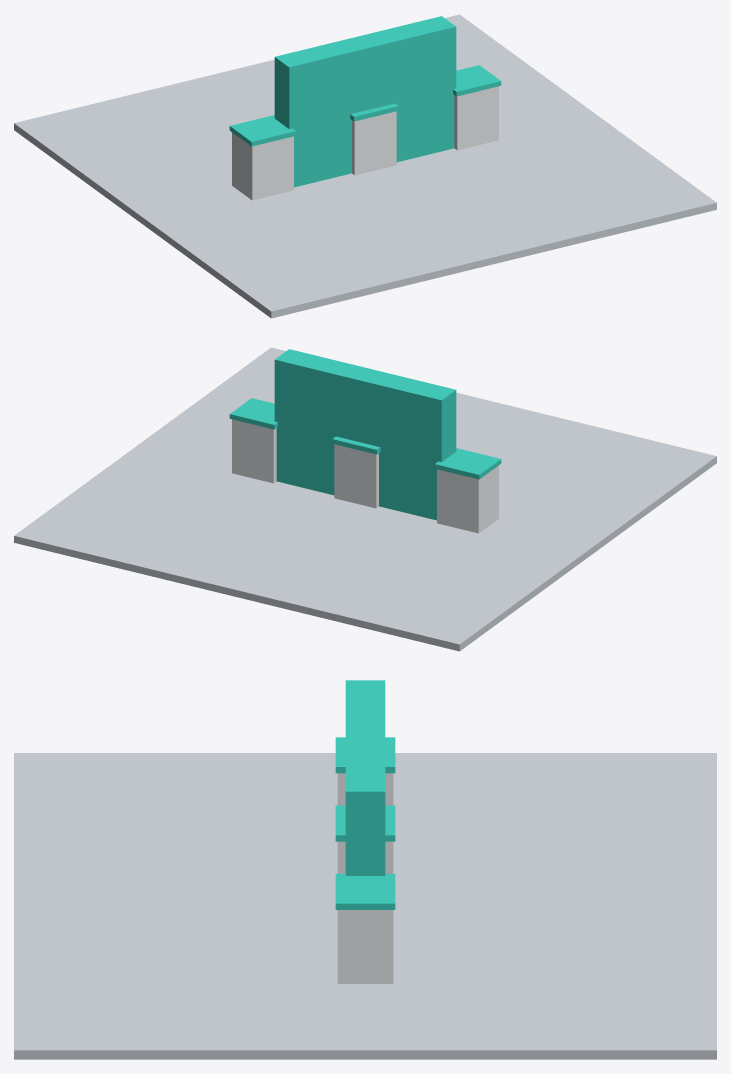
The picture shows the model from 3 angles, top to bottom: view 1: azimuth 30°, elevation 25°; view 2: azimuth 150°, elevation 25°; view 3: azimuth 270°, elevation 25°; orthographic projection. The views are drawn at different scales.
Visible parts, largest first — view 1: Exhibition Booth Concept; view 2: Exhibition Booth Concept; view 3: Exhibition Booth Concept.
Part boxes in pixels (x1,y1,x2,y2): Exhibition Booth Concept: (14, 14, 716, 318); Exhibition Booth Concept: (14, 347, 716, 651); Exhibition Booth Concept: (14, 680, 716, 1059).
Bounding box in the file's own units: 8 × 2.2 × 8.
